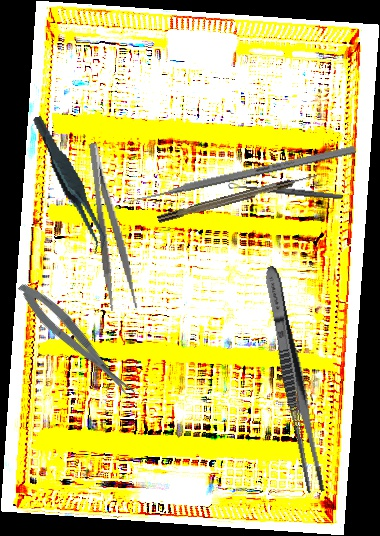Dressing Forceps: (258, 264, 329, 495), (84, 140, 139, 312)
Hook Surgical: (156, 171, 319, 224)
Micro Scissor: (12, 275, 140, 407)
Pusher: (124, 144, 356, 207)
Surgical Spoon: (227, 181, 344, 201)
Tissue Forceps: (31, 107, 110, 262)
